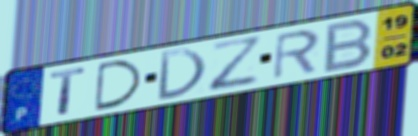B: (320, 17, 376, 75)
D: (154, 47, 209, 103), (94, 57, 146, 113)
R: (271, 28, 323, 82)
T: (49, 65, 89, 118)
Z: (206, 34, 266, 95)
